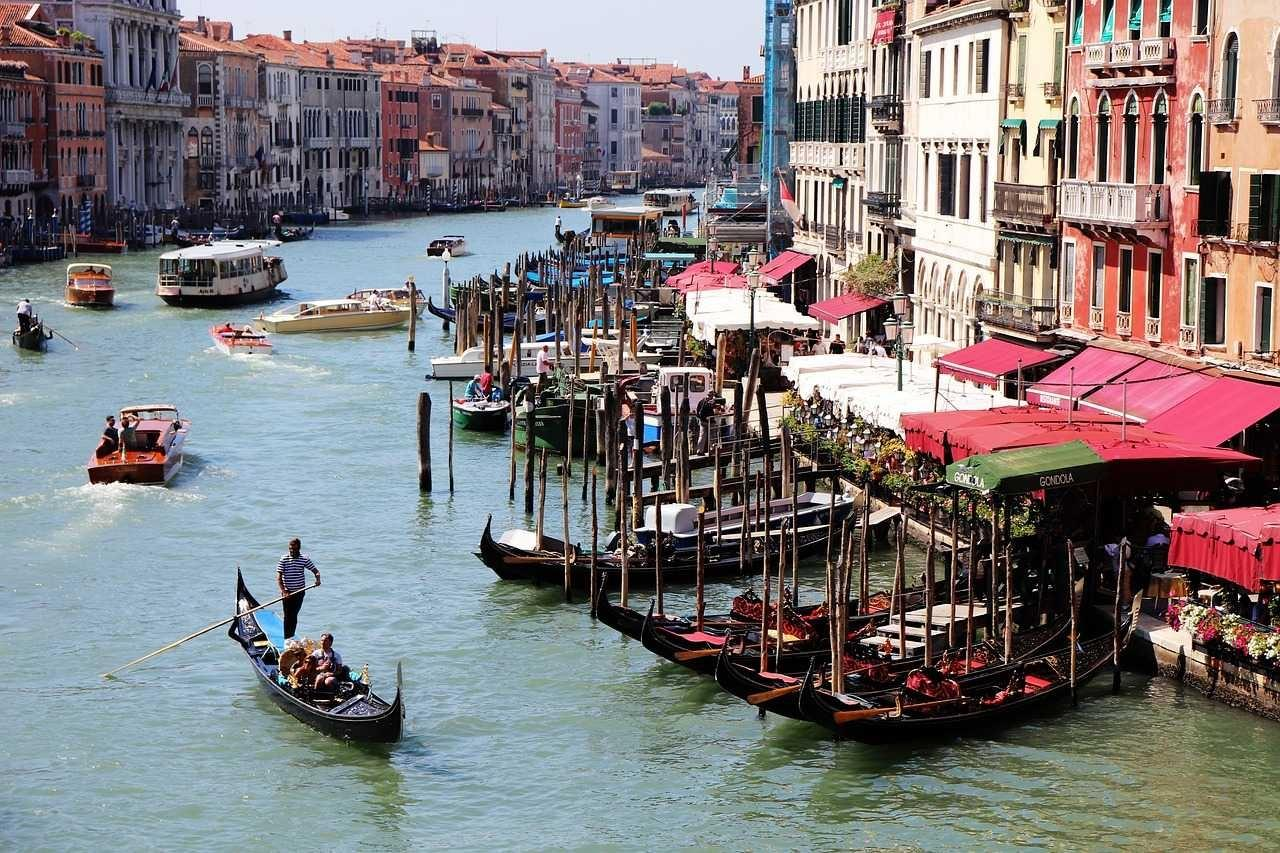kayak: (717, 588, 1147, 740), (1137, 501, 1280, 724), (227, 566, 405, 745), (592, 576, 884, 675), (476, 508, 756, 586), (626, 485, 858, 570), (85, 401, 193, 486), (155, 241, 288, 309), (478, 512, 597, 585), (255, 287, 424, 334), (526, 384, 605, 457), (64, 262, 116, 307), (452, 395, 513, 431), (429, 344, 493, 378), (208, 323, 274, 353), (14, 299, 45, 351), (11, 321, 54, 352), (426, 235, 472, 258), (276, 225, 315, 243)
